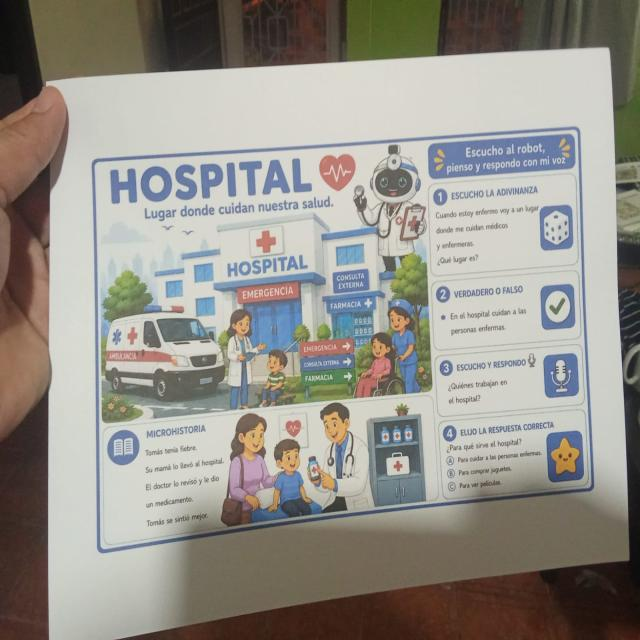hospital: (88, 121, 597, 559)
